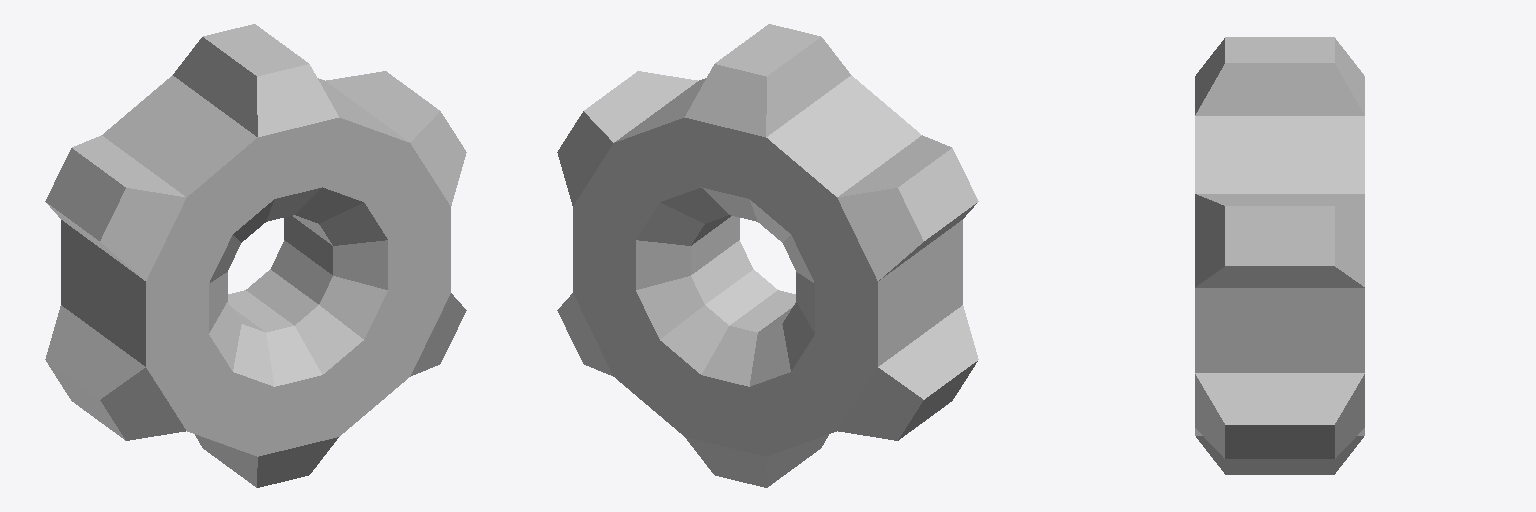
The model's file is Parts_Cog.obj.
The picture shows the model from 3 angles: view 1: azimuth 30°, elevation 25°; view 2: azimuth 150°, elevation 25°; view 3: azimuth 270°, elevation 25°; orthographic projection.
Parts seen in each view (by area): view 1: Parts_Cog; view 2: Parts_Cog; view 3: Parts_Cog.
Boxes of the visible parts, box(x1,y1,x2,y2) form: Parts_Cog: box(45, 24, 466, 487); Parts_Cog: box(557, 24, 978, 487); Parts_Cog: box(1195, 37, 1364, 474).
Bounding box in the file's own units: 0.3731 × 0.4 × 0.15.